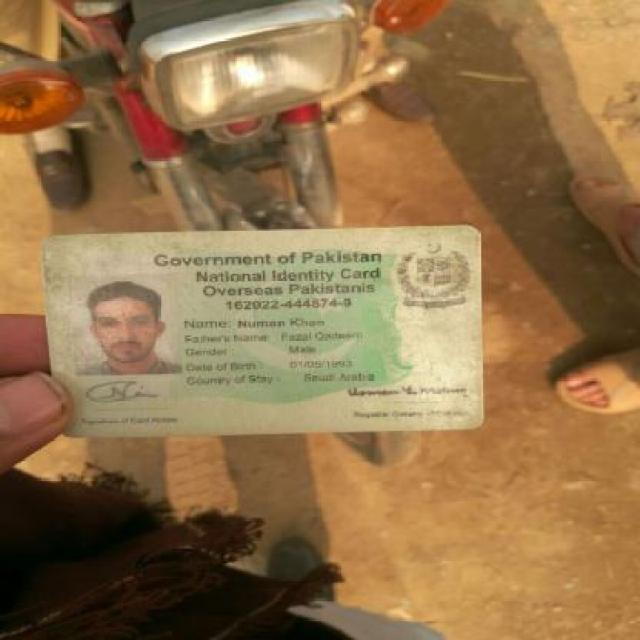Front: (32, 215, 496, 437)
